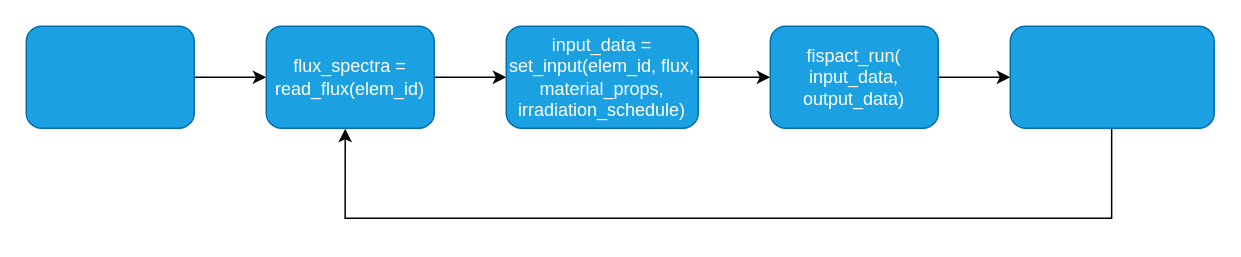
Some shapes in this 1241 by 257 pixel diagram are drawn without their labels. Here are the shapes that lost their labels. From the top down, the centre of each, then its label:
At point 109,76: "for(elem_id in local_elements)".
At point 1111,76: "extract_inventory_data (output_data)".
